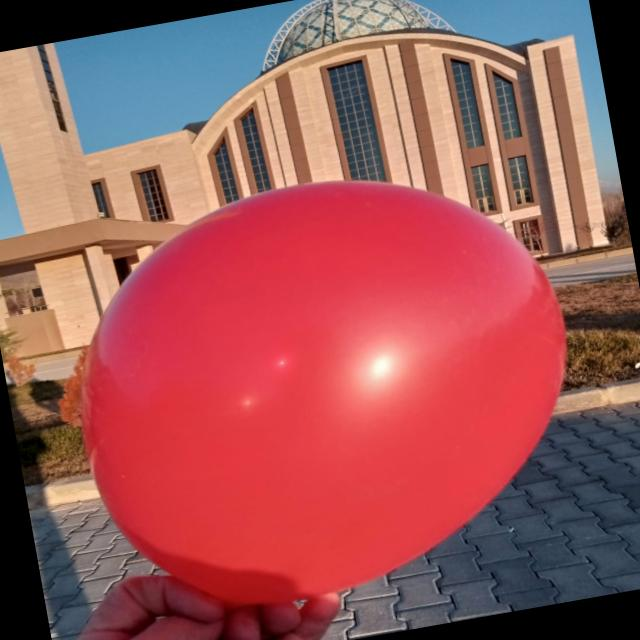balloon: (82, 181, 565, 604)
